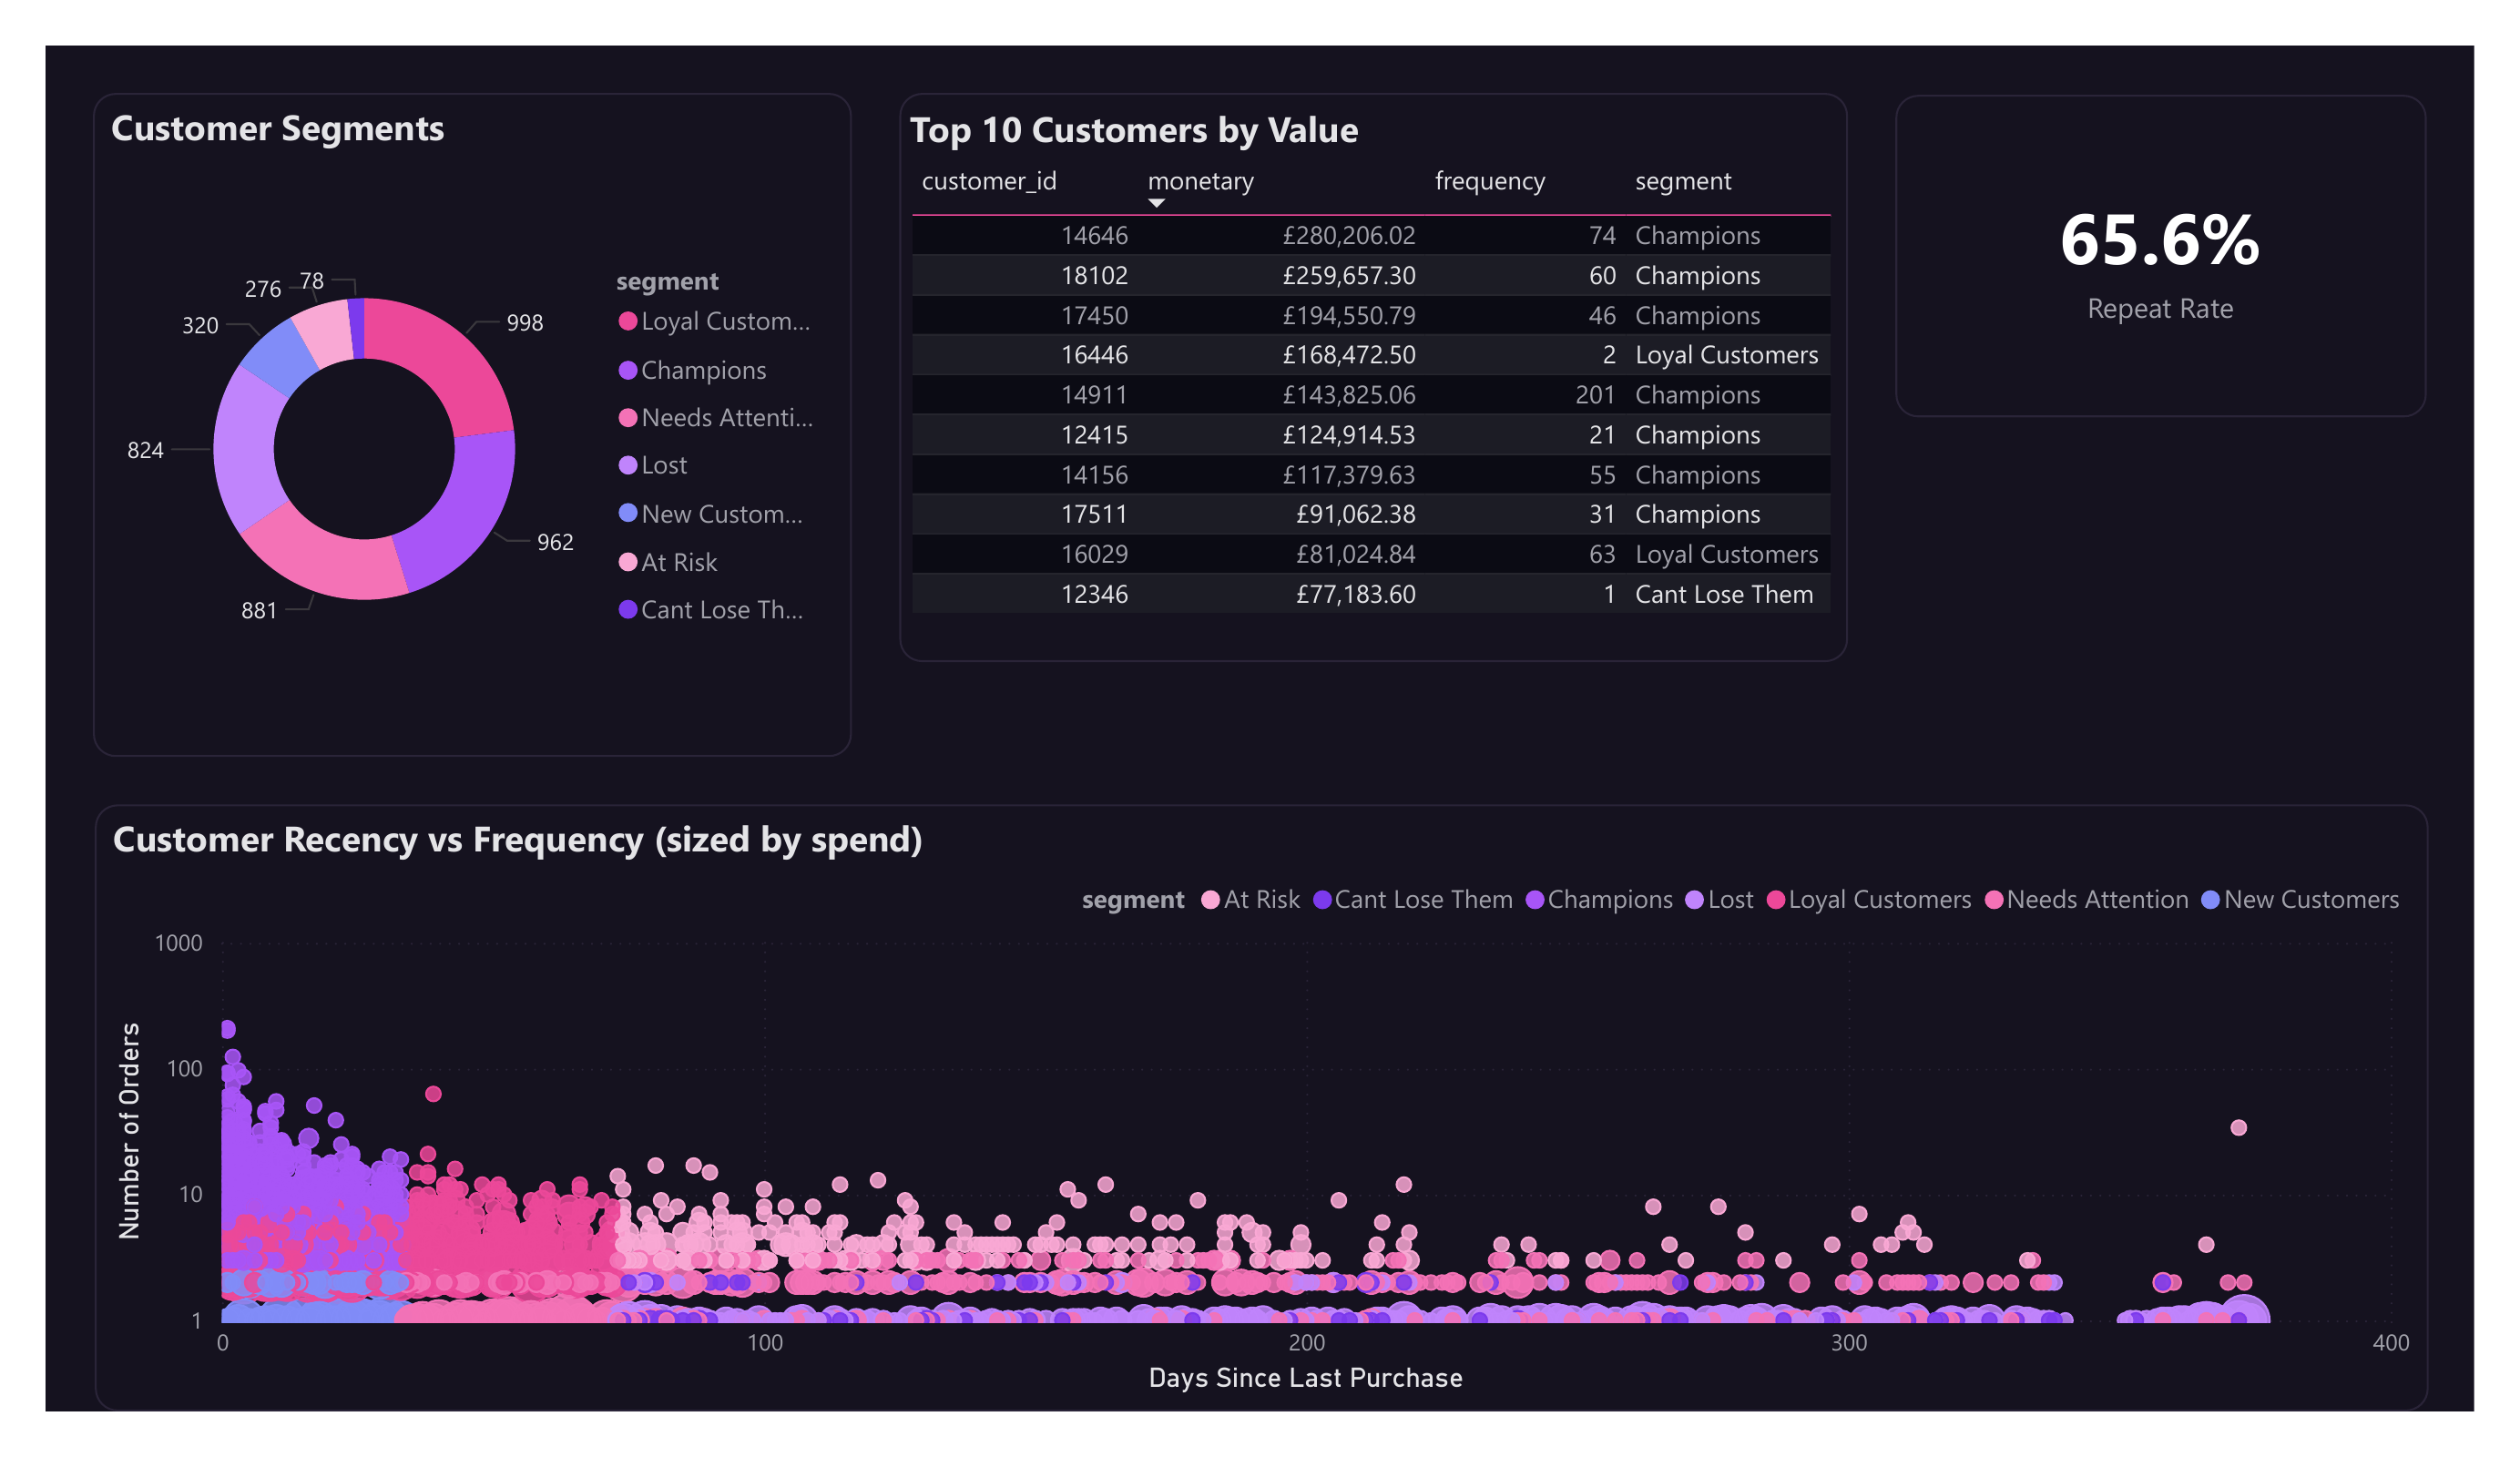

What the dashboard file says about the page in this screenshot:
{"tool":"powerbi","page":{"name":"Customer Insights","canvas":[1280,720],"ordinal":1},"visuals":[{"type":"donutChart","title":"Customer Segments","fields":{"Category":["public customer_rfm.segment"],"Y":["_Measures.Segment Customer Count"]},"box":[25,25,400,350],"z":0},{"type":"tableEx","title":"Top 10 Customers by Value","fields":{"Values":["public customer_rfm.customer_id","public customer_rfm.monetary","public customer_rfm.frequency","public customer_rfm.segment"]},"box":[450,25,500,300],"z":1000},{"type":"card","fields":{"Values":["_Measures.Repeat Rate"]},"box":[975,25.7,280,170],"z":2000},{"type":"scatterChart","title":"Customer Recency vs Frequency (sized by spend)","fields":{"X":["public customer_rfm.recency"],"Y":["public customer_rfm.frequency"],"Size":["CountNonNull(public customer_rfm.monetary)"],"Series":["public customer_rfm.segment"]},"box":[25.7,400,1230,320],"z":3000}]}

Visuals, with their boxes on the page's 1280x720 design canvas (x1, y1, x2, y2). These are canvas units, not pixel positions in the 2520x1457 screenshot, which may show the page scaled, cropped or inside an application window:
"Customer Segments" donutChart: rect(25, 25, 425, 375)
"Top 10 Customers by Value" tableEx: rect(450, 25, 950, 325)
card - _Measures.Repeat Rate: rect(975, 26, 1255, 196)
"Customer Recency vs Frequency (sized by spend)" scatterChart: rect(26, 400, 1256, 720)
